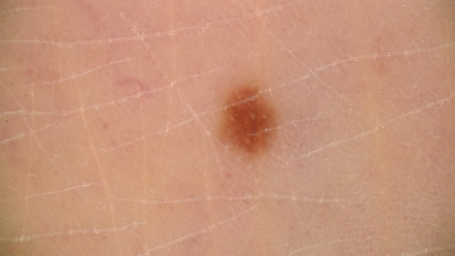nevus: (222, 85, 280, 156)
